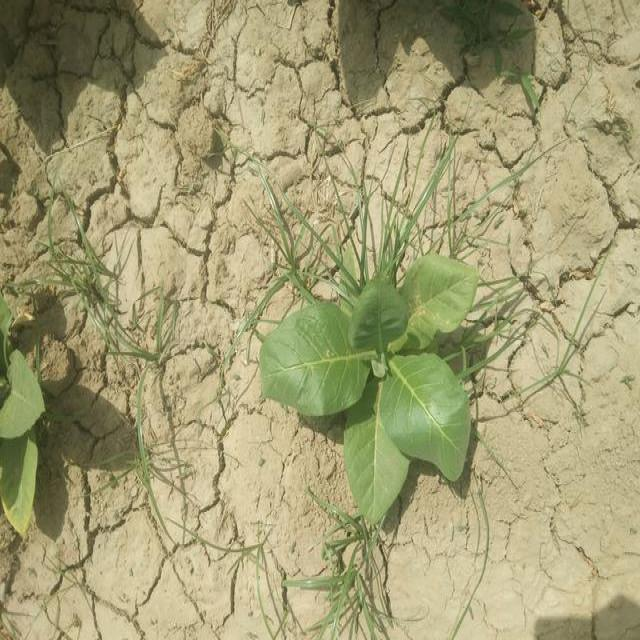crop: (250, 253, 477, 524)
